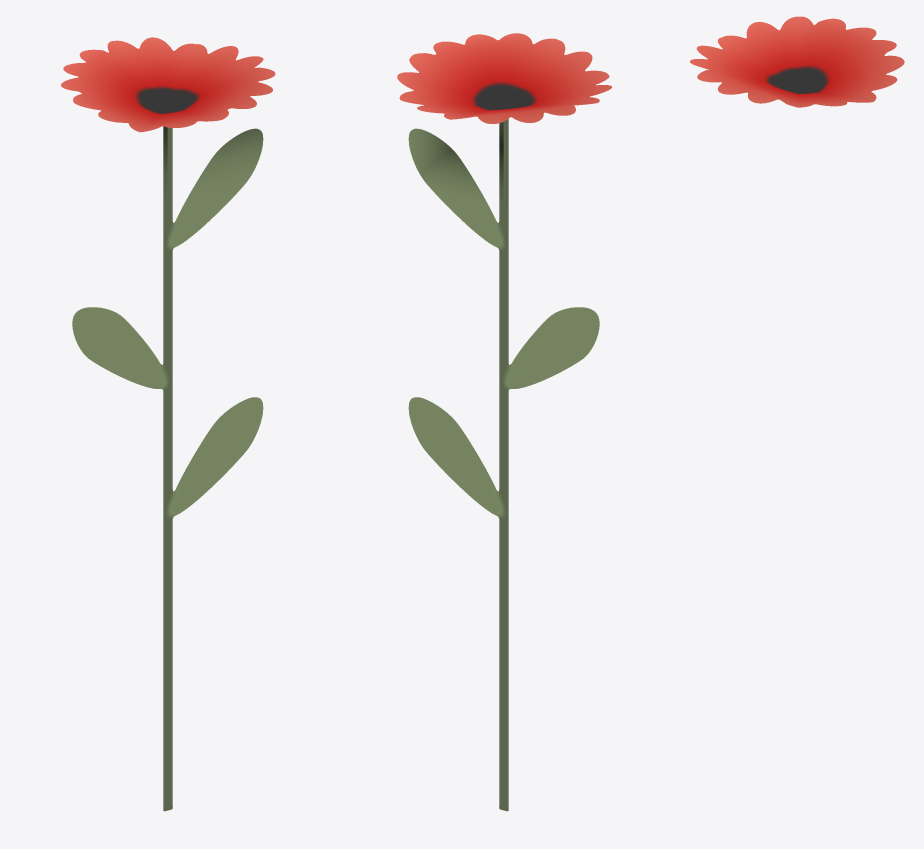
File: Flower_02.fbx
3 renders of one model, left to right at view 1: azimuth 30°, elevation 25°; view 2: azimuth 150°, elevation 25°; view 3: azimuth 270°, elevation 25°, orthographic.
Visible parts, largest first — view 1: Flower_02; view 2: Flower_02; view 3: Flower_02.
Part boxes in pixels (<box>): Flower_02: <box>61,37,275,811</box>; Flower_02: <box>397,33,611,811</box>; Flower_02: <box>690,16,904,107</box>.
Bounding box in the file's own units: 10.53 × 37.6 × 10.49.
